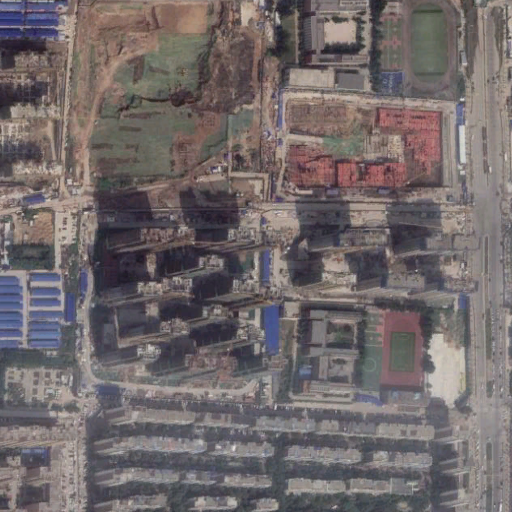cw: (78, 7, 263, 187)
